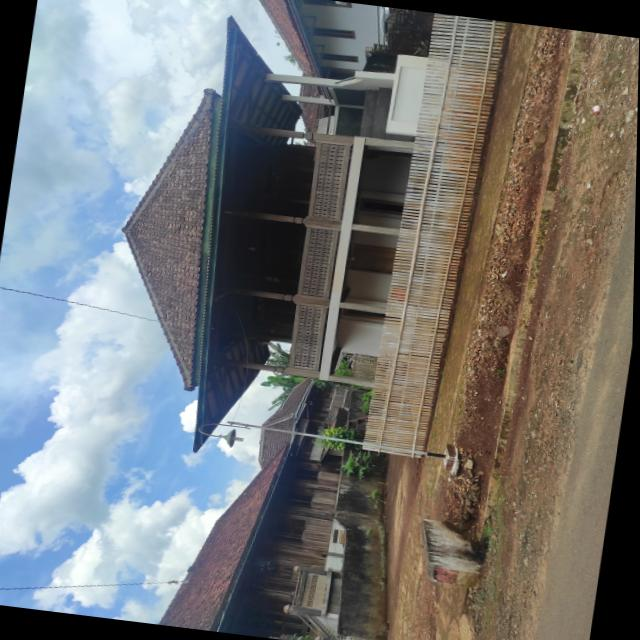Atap: (158, 427, 299, 631), (258, 374, 316, 467)
Ornamen: (308, 141, 350, 218)
Pintu: (349, 242, 427, 277)
Tangga: (359, 86, 415, 141)
Tembok Bangunan: (221, 457, 341, 640)
jendela: (359, 196, 423, 216)
